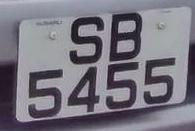4: (63, 60, 108, 118)
5: (101, 59, 143, 114), (25, 64, 66, 120), (140, 53, 176, 112)
B: (102, 6, 146, 67)
S: (61, 9, 109, 69)
